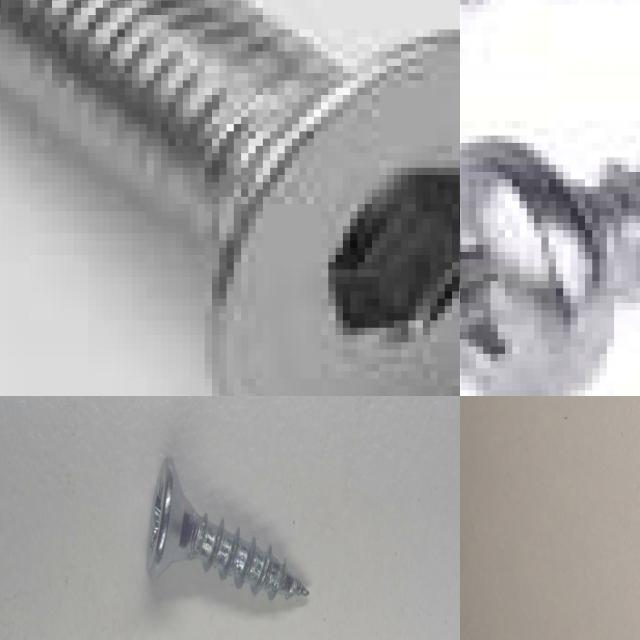Screw: (0, 0, 460, 396), (460, 136, 640, 396), (146, 456, 309, 599)
